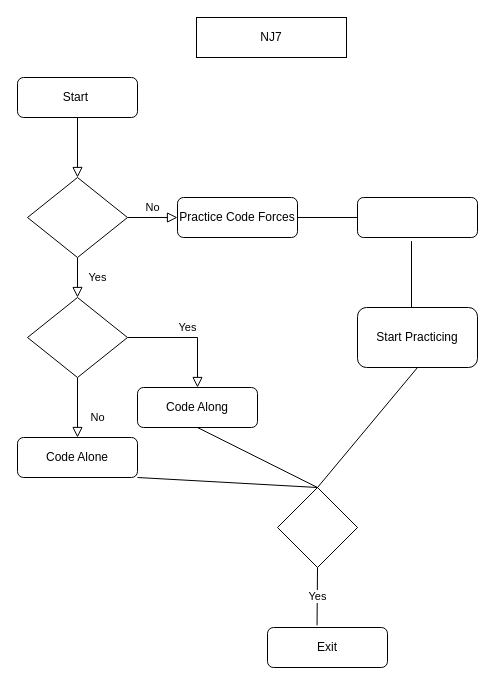
The diagram is 495 pixels wide and 685 high, and some of its shapes have lost their labels. The shapes that lost their labels are listed below. From the top down, each one's centre as x and y in pixels, then its label:
At pixel 77 217: "Collab with freinds".
At pixel 417 217: "Put Problem ID".
At pixel 77 337: "Invite Collaborators".
At pixel 317 527: "Done".
